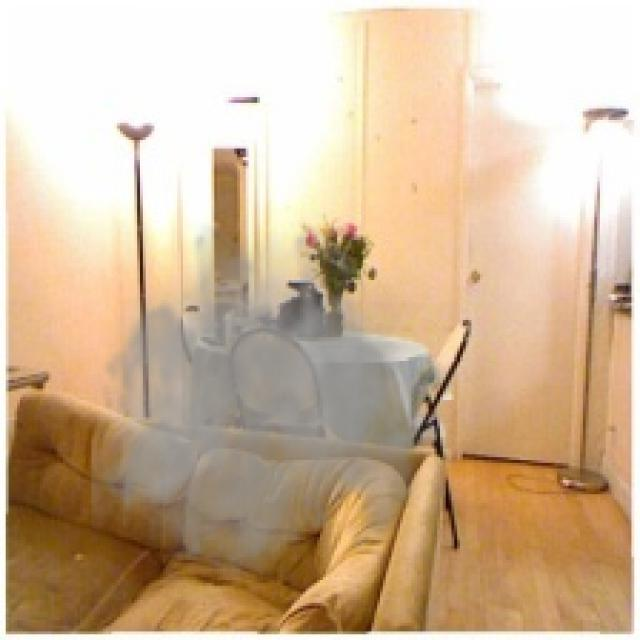smoke: (91, 220, 452, 589)
